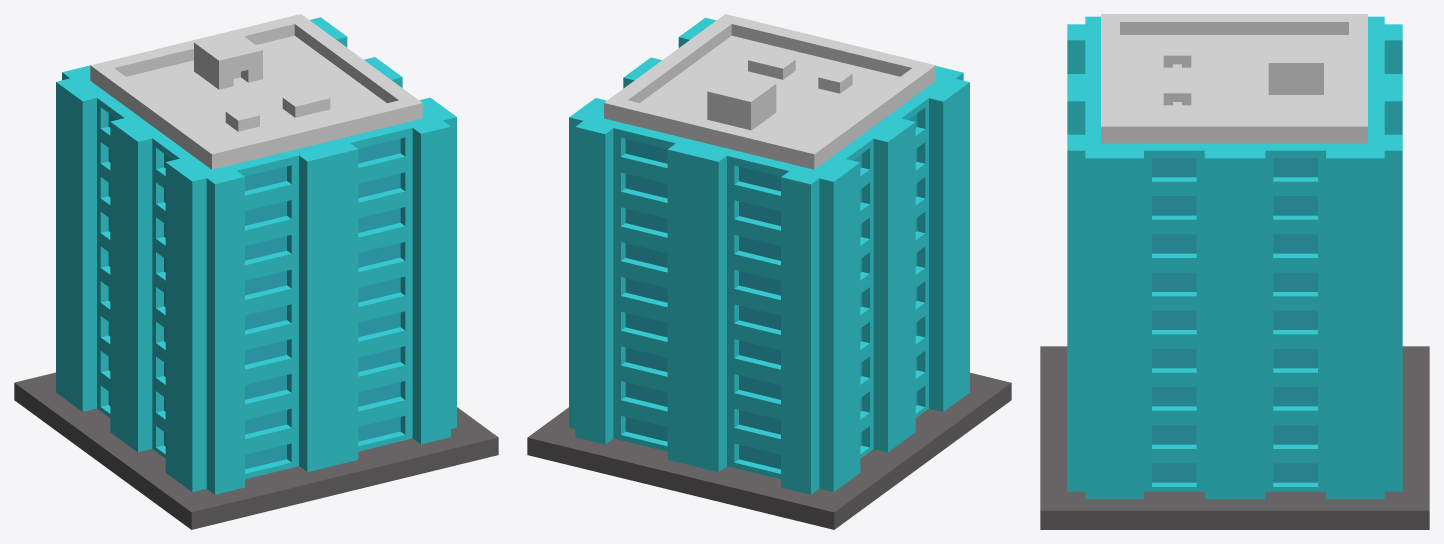
The model's file is LowpolyBuilding2.fbx.
The picture shows the model from 3 angles, left to right: view 1: azimuth 30°, elevation 25°; view 2: azimuth 150°, elevation 25°; view 3: azimuth 270°, elevation 25°; orthographic projection. The views are drawn at different scales.
Visible parts, largest first — view 1: Building, Roof, Base, Cube, Cube.002, Cube.001; view 2: Building, Roof, Base, Cube, Cube.002, Cube.001; view 3: Building, Roof, Base, Cube, Cube.002, Cube.001.
Part boxes in pixels (x1=…): Building: x1=56, y1=17, x2=456, y2=494; Roof: x1=90, y1=14, x2=422, y2=169; Base: x1=14, y1=372, x2=498, y2=529; Cube: x1=194, y1=31, x2=262, y2=89; Cube.002: x1=282, y1=89, x2=330, y2=117; Cube.001: x1=225, y1=106, x2=259, y2=131; Building: x1=569, y1=17, x2=969, y2=494; Roof: x1=604, y1=14, x2=935, y2=169; Base: x1=527, y1=372, x2=1011, y2=529; Cube: x1=707, y1=73, x2=776, y2=130; Cube.002: x1=748, y1=51, x2=795, y2=79; Cube.001: x1=818, y1=68, x2=852, y2=93; Building: x1=1067, y1=16, x2=1402, y2=499; Roof: x1=1101, y1=14, x2=1367, y2=143; Base: x1=1040, y1=346, x2=1429, y2=529; Cube: x1=1268, y1=39, x2=1323, y2=94; Cube.002: x1=1163, y1=74, x2=1191, y2=105; Cube.001: x1=1163, y1=44, x2=1191, y2=67.
Bounding box in the file's own units: 233 × 262 × 233.
